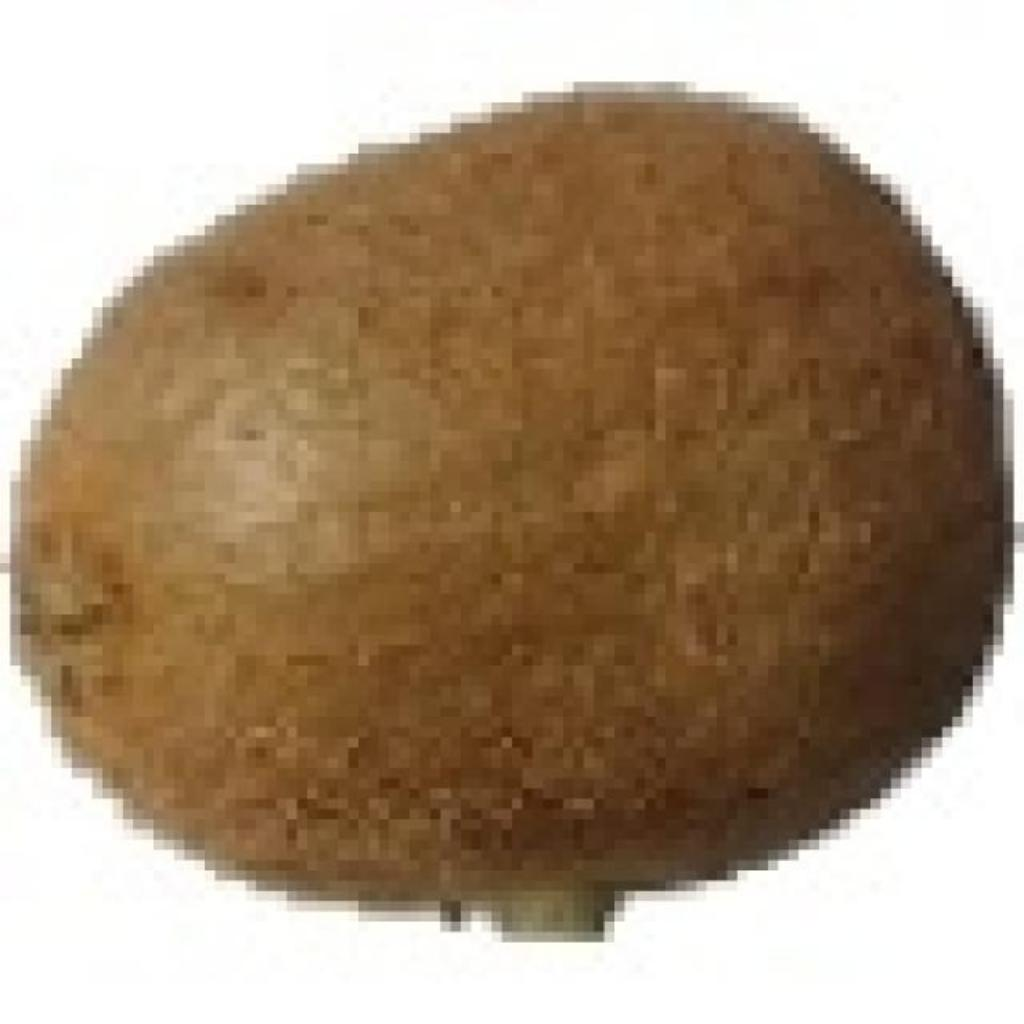kiwi: (0, 82, 993, 911)
